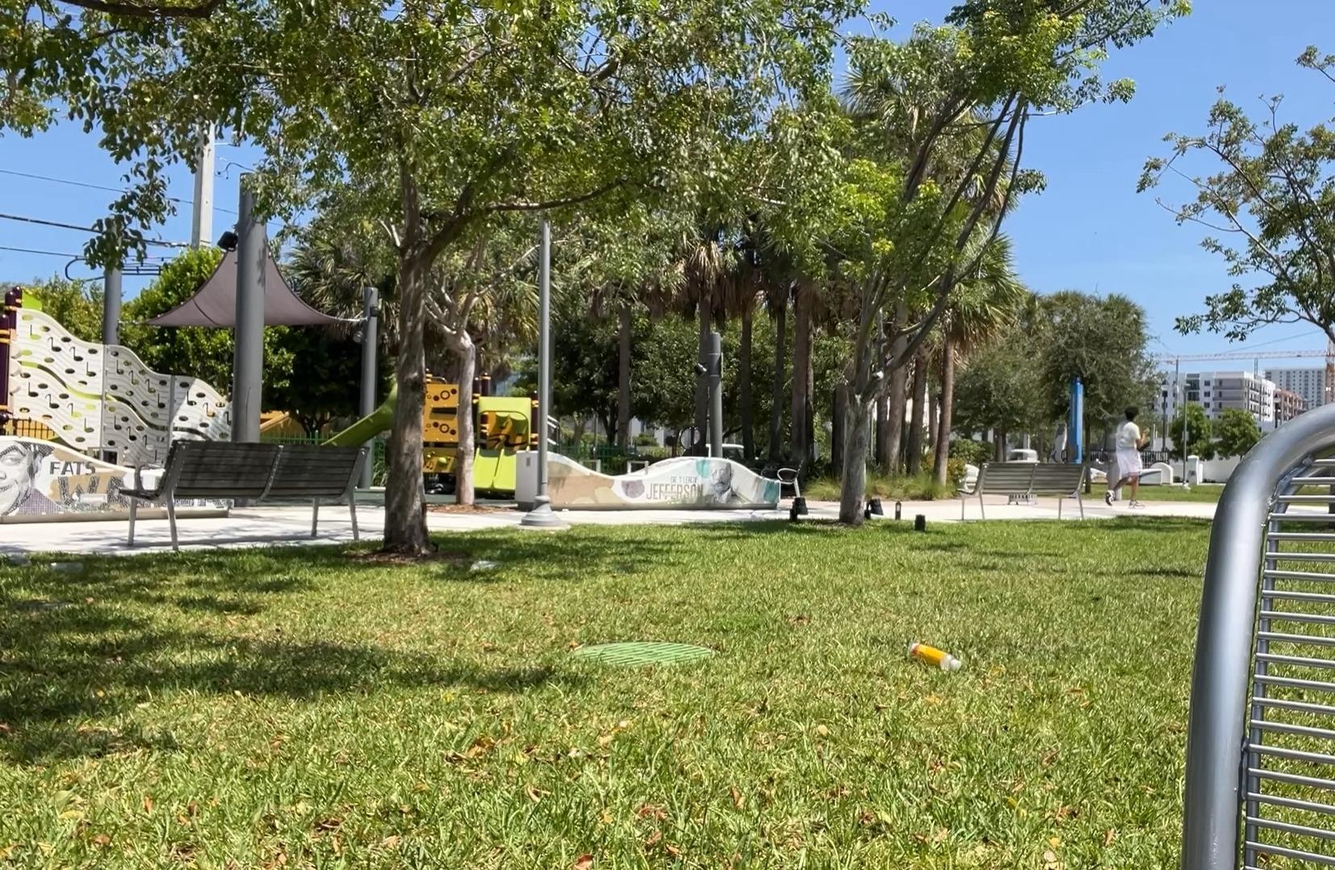Trash: (894, 630, 979, 683)
